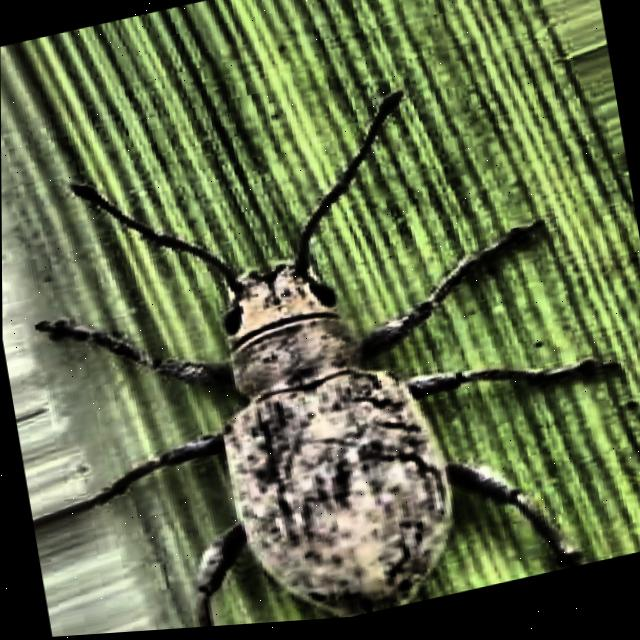Stink bug: (1, 71, 628, 640)
